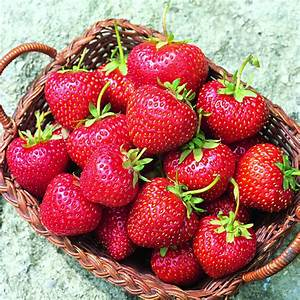Fresa: (125, 81, 206, 162), (124, 172, 200, 255), (194, 75, 272, 152), (224, 141, 300, 219), (159, 134, 241, 205), (122, 36, 210, 98), (191, 209, 262, 285), (4, 127, 74, 201), (38, 170, 106, 244), (76, 141, 145, 213), (42, 65, 111, 135)
